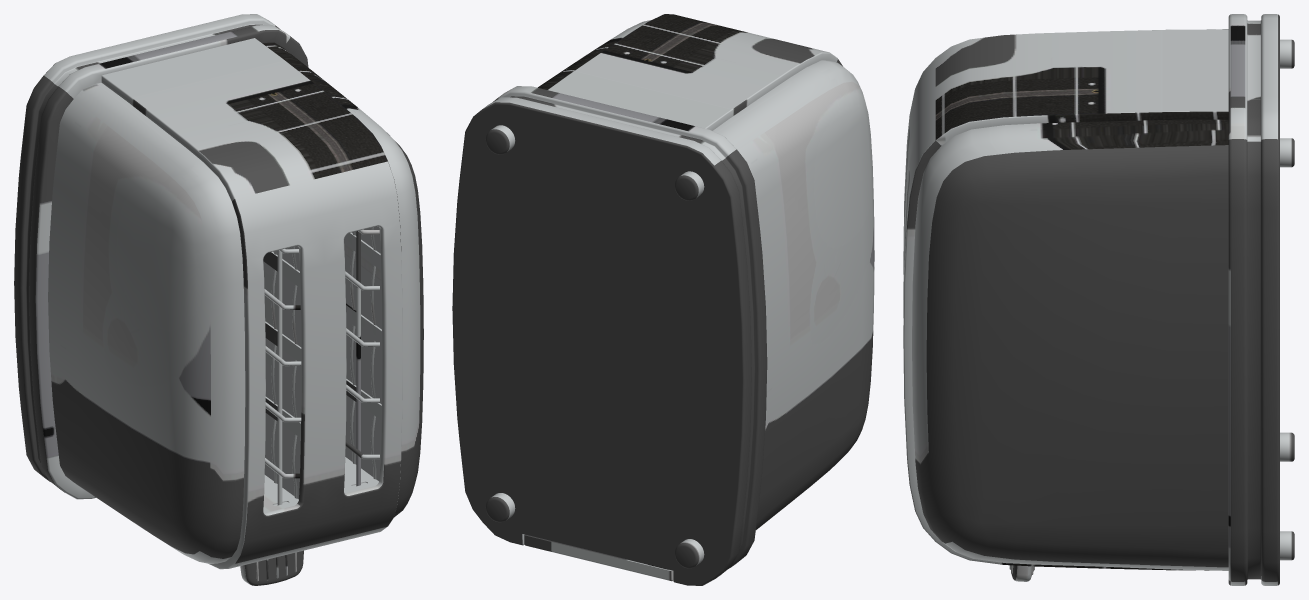
Rendered from toaster_main_group_main_toaster_main_group_main_model_0.obj.
3 renders of one model, left to right at view 1: azimuth 30°, elevation 25°; view 2: azimuth 150°, elevation 25°; view 3: azimuth 270°, elevation 25°, orthographic. The views are drawn at different scales.
Bounding box in the file's own units: 0.6464 × 1 × 0.6984.
1 material, 1 textured.
